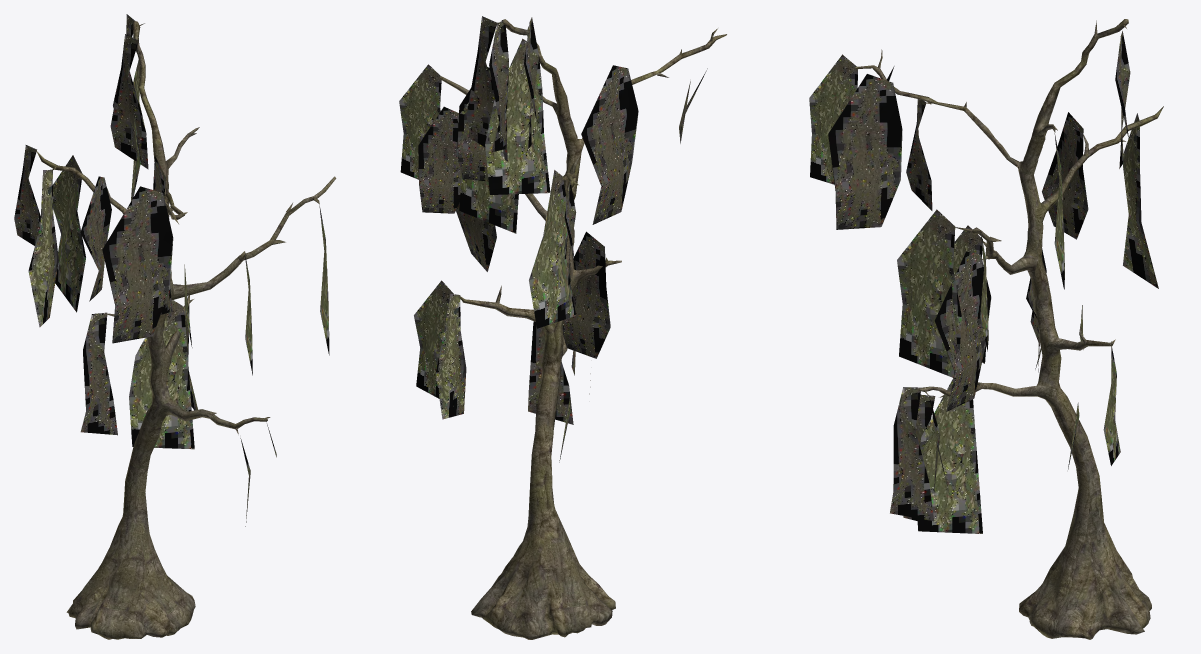
Rendered from swamp-tree-a-close.glb.
3 renders of one model, left to right at view 1: azimuth 30°, elevation 25°; view 2: azimuth 150°, elevation 25°; view 3: azimuth 270°, elevation 25°, orthographic. The views are drawn at different scales.
Visible parts, largest first — view 1: swamp_tree_a_LOD0; view 2: swamp_tree_a_LOD0; view 3: swamp_tree_a_LOD0.
Boxes of the visible parts, <box> form: swamp_tree_a_LOD0: <box>14,14,336,639</box>; swamp_tree_a_LOD0: <box>399,16,726,639</box>; swamp_tree_a_LOD0: <box>809,19,1163,639</box>.
Size of the model in its own units: 7.99 by 14.39 by 8.02.
Materials: 1 (1 with a texture image).
